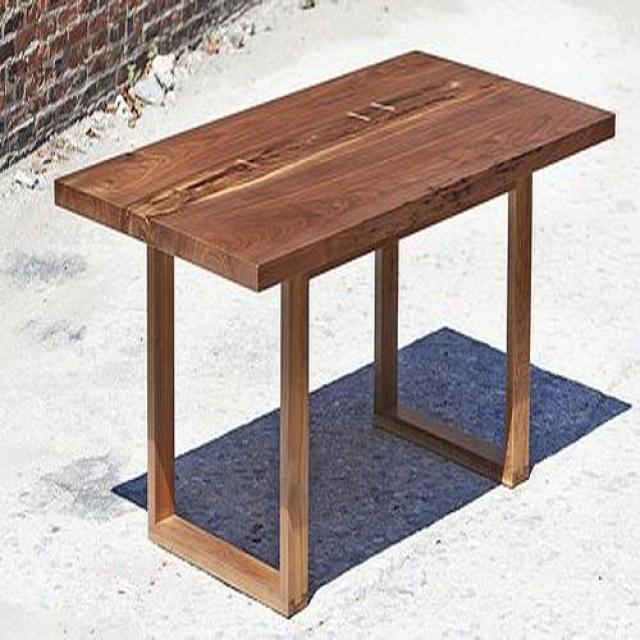table: (54, 51, 616, 618)
